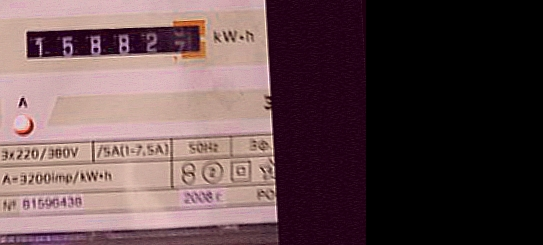1: (31, 34, 46, 57)
2: (142, 30, 159, 55)
5: (59, 33, 74, 58)
7: (172, 36, 185, 53)
8: (115, 32, 130, 56), (87, 33, 101, 57)
screen: (15, 11, 215, 77)
